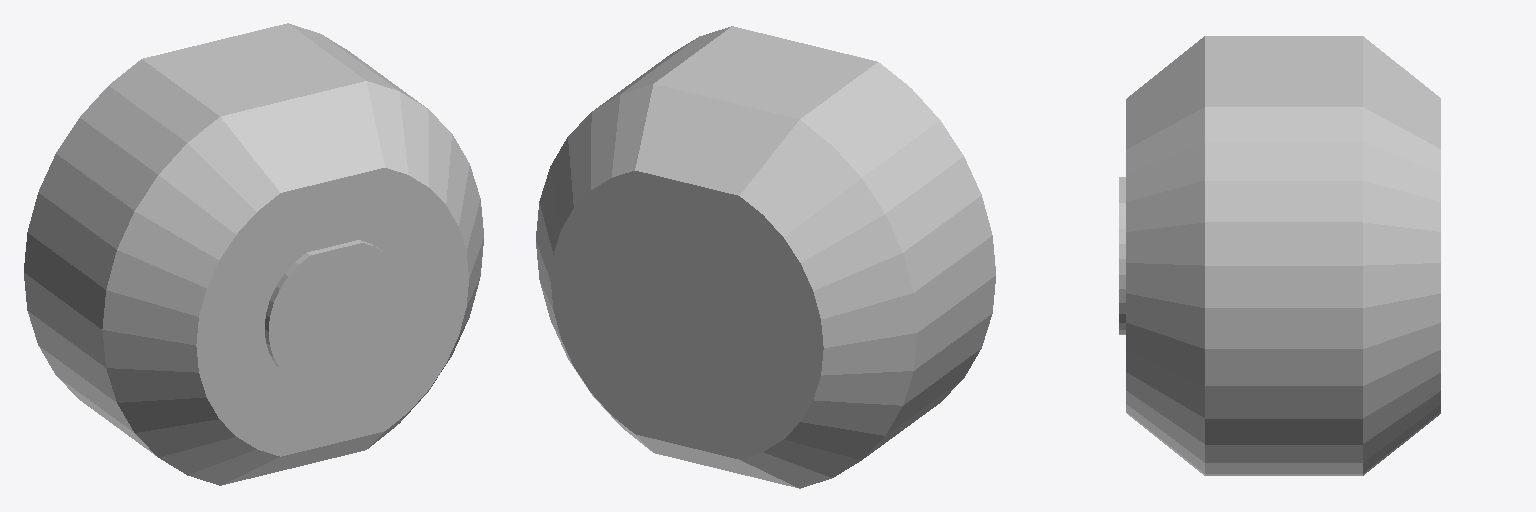
Rendered from gripper_base.obj.
3 renders of one model, left to right at view 1: azimuth 30°, elevation 25°; view 2: azimuth 150°, elevation 25°; view 3: azimuth 270°, elevation 25°, orthographic.
Visible parts, largest first — view 1: gripper_base_Cylinder.003; view 2: gripper_base_Cylinder.003; view 3: gripper_base_Cylinder.003.
Part boxes in pixels (left/top/right/bottom): gripper_base_Cylinder.003: left=24, top=23, right=483, bottom=485; gripper_base_Cylinder.003: left=536, top=26, right=995, bottom=488; gripper_base_Cylinder.003: left=1119, top=36, right=1440, bottom=475.
Bounding box in the file's own units: 0.056 × 0.0517 × 0.041.